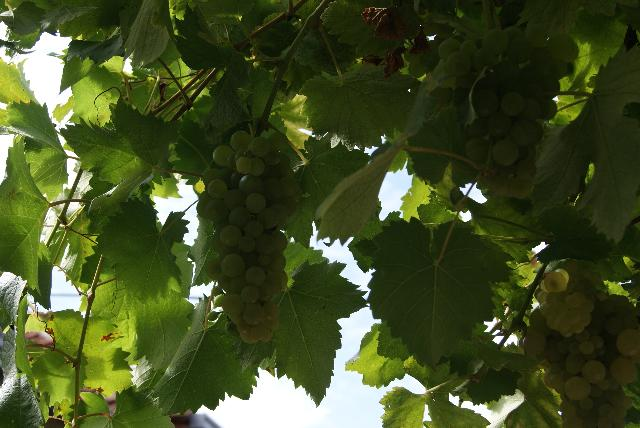grapes: (432, 26, 578, 198), (199, 131, 302, 344), (522, 296, 640, 428), (536, 260, 606, 336)
